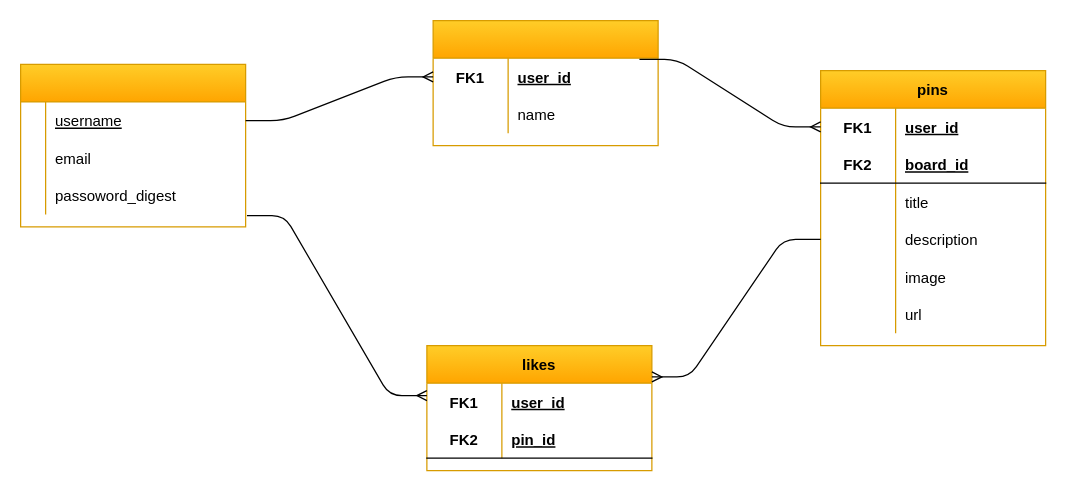
Image size: 1066x491. Some labels were removed from this diagram. Here are the shapes that lost their labels. From the top down, the box of each, then its label:
(432, 19, 658, 146): boards
(19, 63, 246, 227): users
